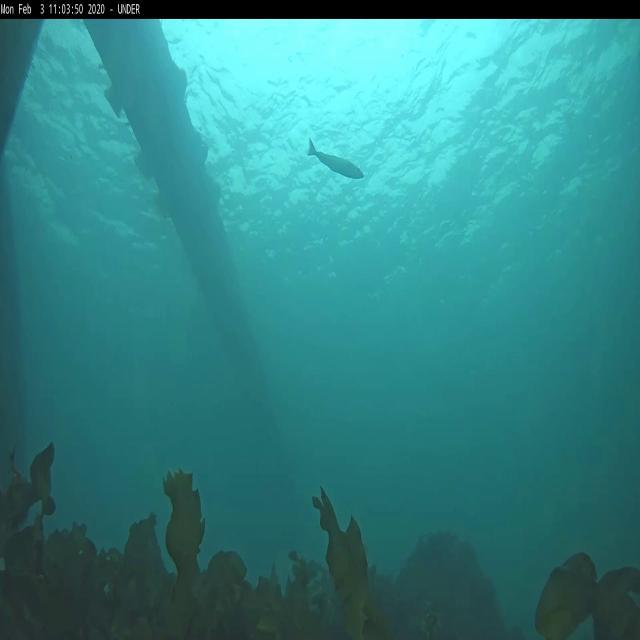fish: (306, 138, 365, 180)
